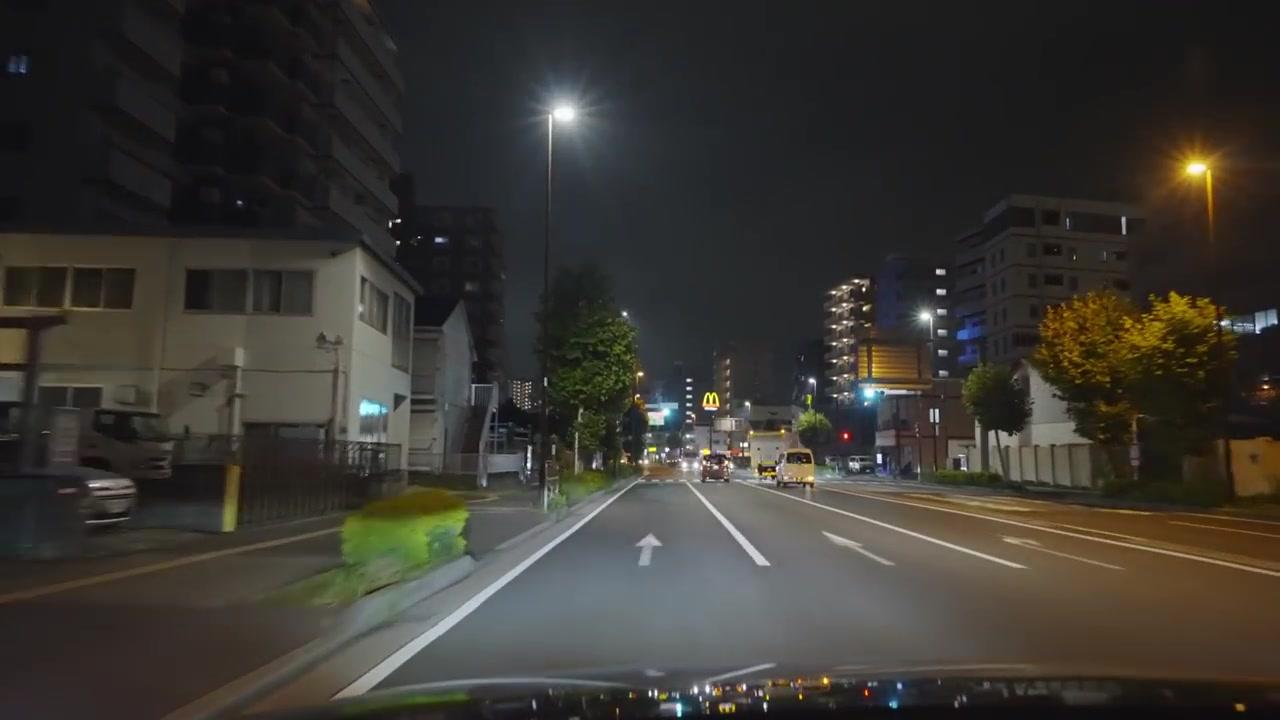bus: (775, 448, 816, 487)
car: (1, 459, 138, 542), (776, 449, 816, 488), (700, 453, 729, 482), (845, 455, 878, 475)
traffic light: (389, 172, 419, 245), (685, 377, 695, 414), (838, 427, 853, 444), (805, 389, 813, 405)
truck: (71, 408, 176, 481), (775, 448, 816, 487)
